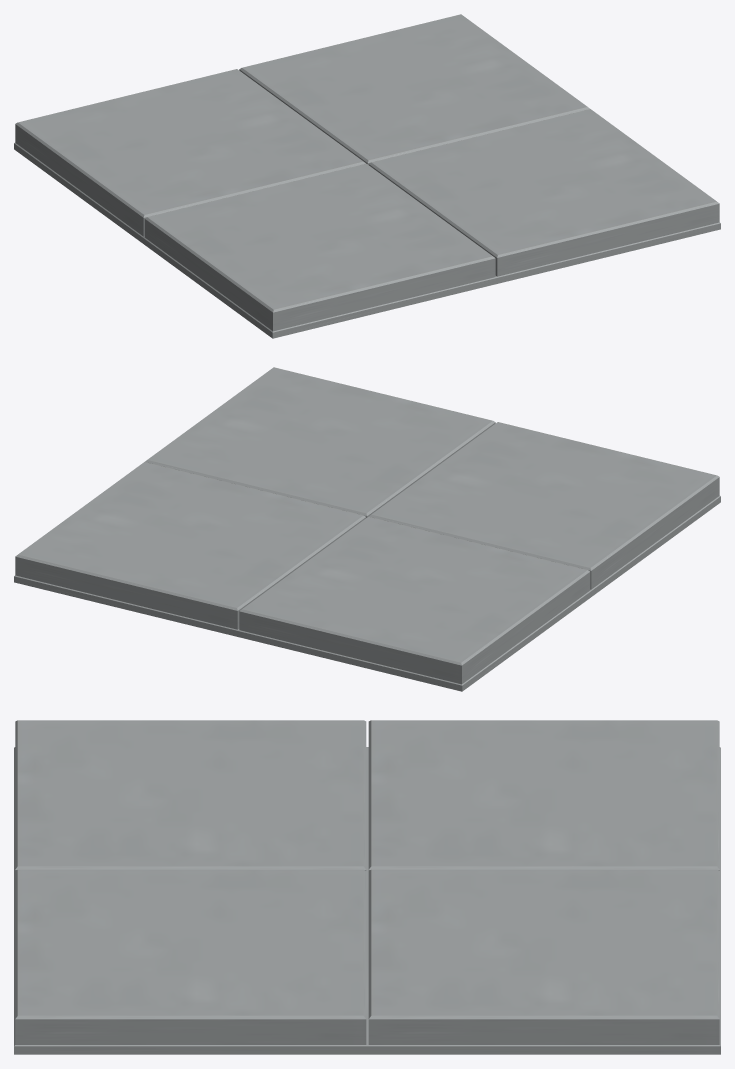
File: showcase_sidewalk_corner.glb
3 views of the same model, one above another, from view 1: azimuth 30°, elevation 25°; view 2: azimuth 150°, elevation 25°; view 3: azimuth 270°, elevation 25° (orthographic). The views are drawn at different scales.
Parts seen in each view (by area): view 1: outdoor_showcase_sidewalk_corner; view 2: outdoor_showcase_sidewalk_corner; view 3: outdoor_showcase_sidewalk_corner.
Boxes of the visible parts, x1,y1,x2,y2 form: outdoor_showcase_sidewalk_corner: (14,14,720,338); outdoor_showcase_sidewalk_corner: (14,367,720,691); outdoor_showcase_sidewalk_corner: (14,720,720,1054).
Size of the model in its own units: 2.4 by 0.14 by 2.4.
1 material, 1 textured.
